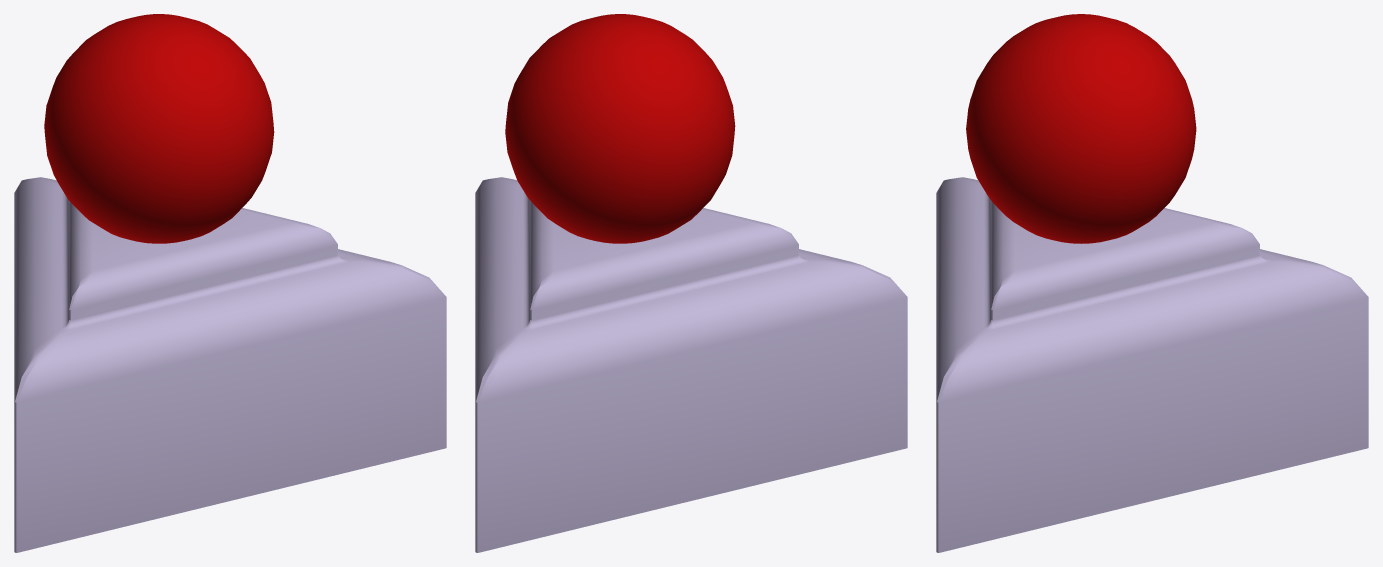
File: power_upgrade.glb
The picture shows the model from 3 angles, left to right: view 1: azimuth 30°, elevation 25°; view 2: azimuth 150°, elevation 25°; view 3: azimuth 270°, elevation 25°; orthographic projection.
Visible parts, largest first — view 1: Plane; view 2: Plane; view 3: Plane.
Part boxes in pixels (x1,y1,x2,y2): Plane: [14, 14, 446, 552]; Plane: [475, 14, 907, 552]; Plane: [936, 14, 1368, 552].
Bounding box in the file's own units: 0.451 × 0.4221 × 0.3911.
1 material, 1 textured.
